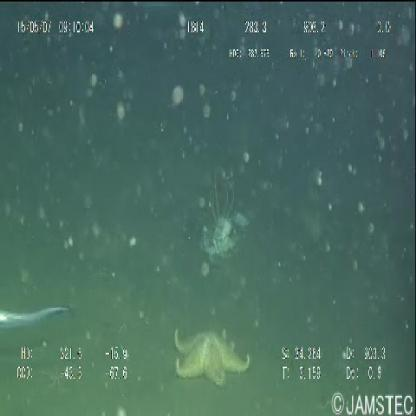Rác: (201, 211, 250, 261)
